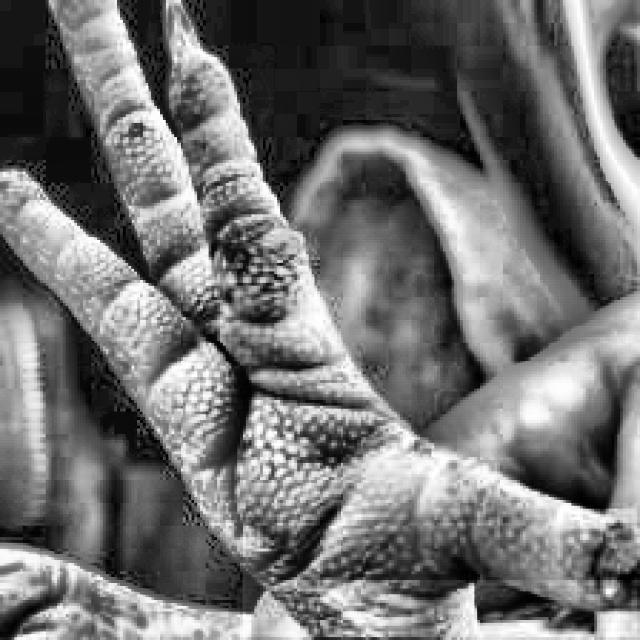Bumble foot: (183, 161, 360, 355)
